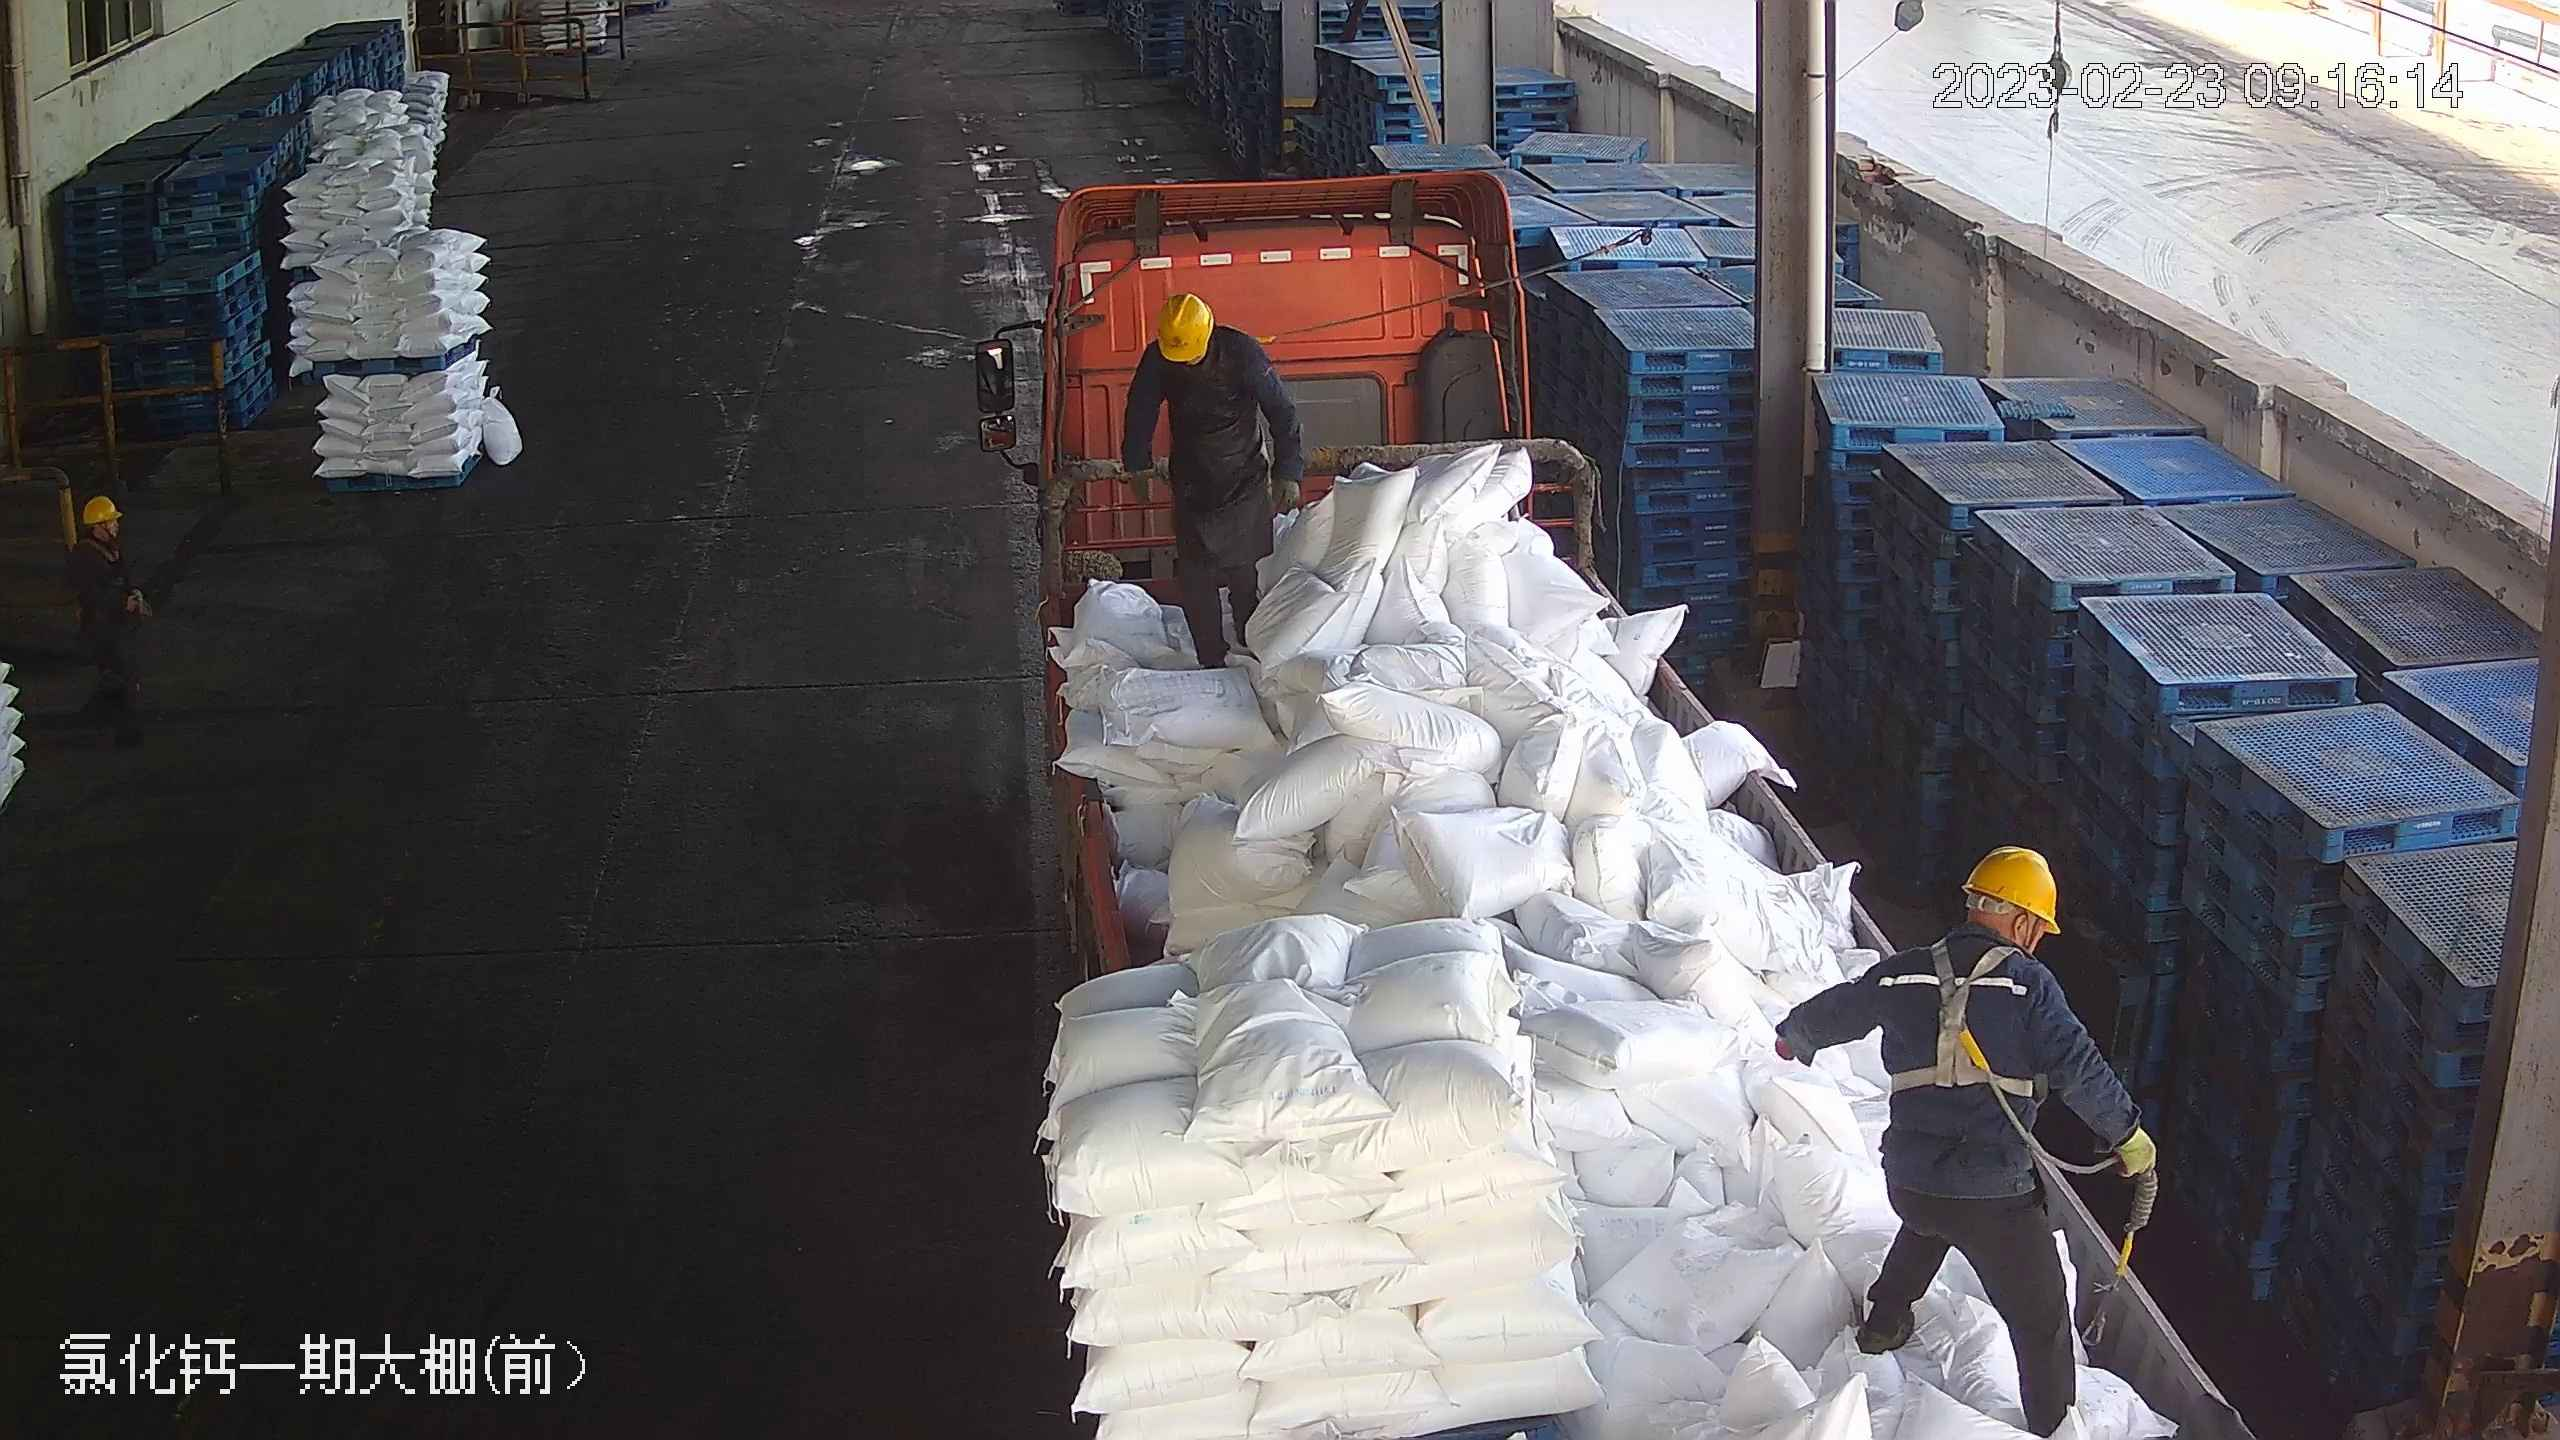belt: (1888, 937, 2051, 1101), (90, 537, 128, 564), (1249, 326, 1281, 353)
head: (1873, 842, 2075, 1046), (1133, 289, 1280, 396), (65, 492, 144, 585)
helmet: (1961, 844, 2063, 934), (1155, 289, 1212, 361), (77, 493, 122, 527)
people: (1771, 846, 2168, 1430), (1115, 285, 1309, 673), (55, 488, 165, 751)
truck: (990, 167, 2262, 1440)
